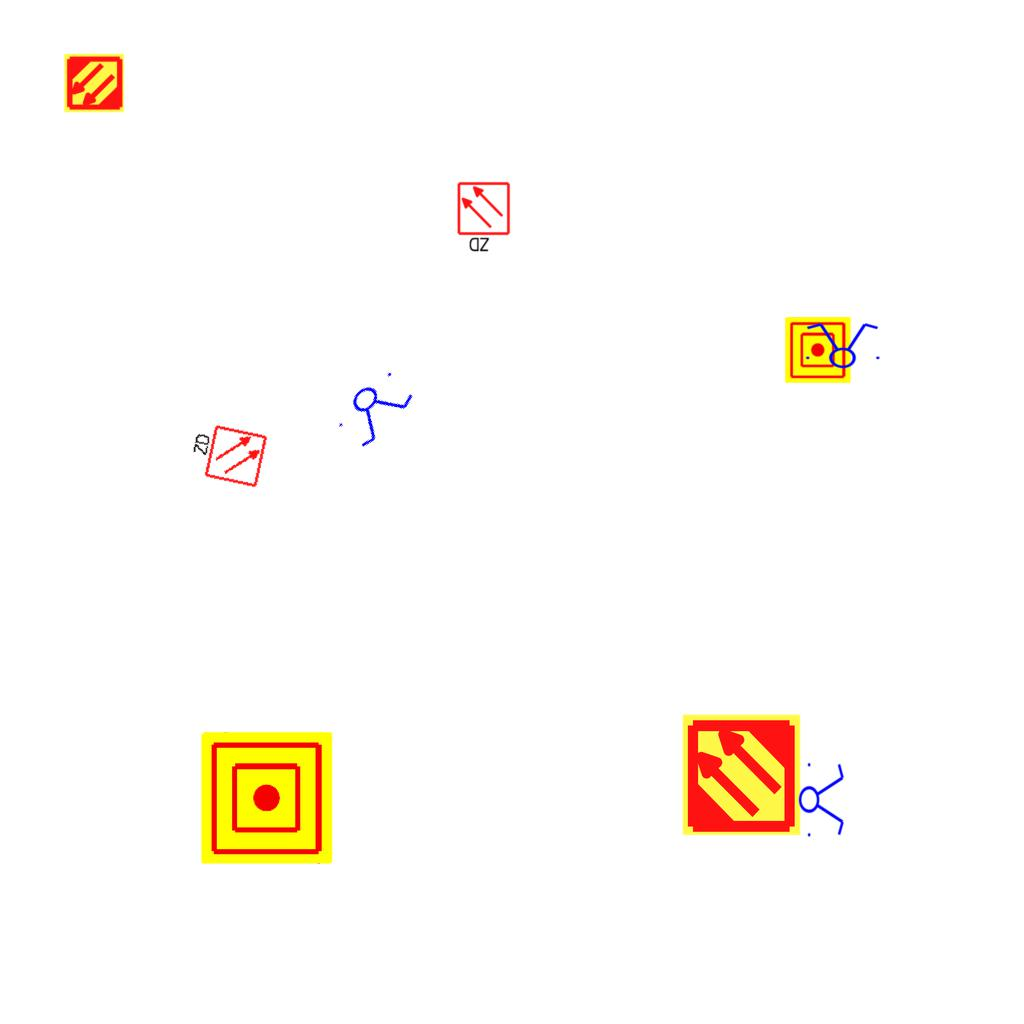ASR_Ansaugrauchmelder: (679, 712, 804, 837), (63, 52, 125, 114)
NAM-Nichtautomatischer_Melder: (201, 732, 333, 864), (785, 317, 851, 383)
Serienschalter: (328, 361, 422, 455), (798, 757, 846, 841), (800, 321, 884, 369)
ZD_Melder_in_Zwischendecke_mit_Revisionsoeffnung_mind_40_x_40_cm: (184, 419, 269, 491), (456, 181, 513, 255)
